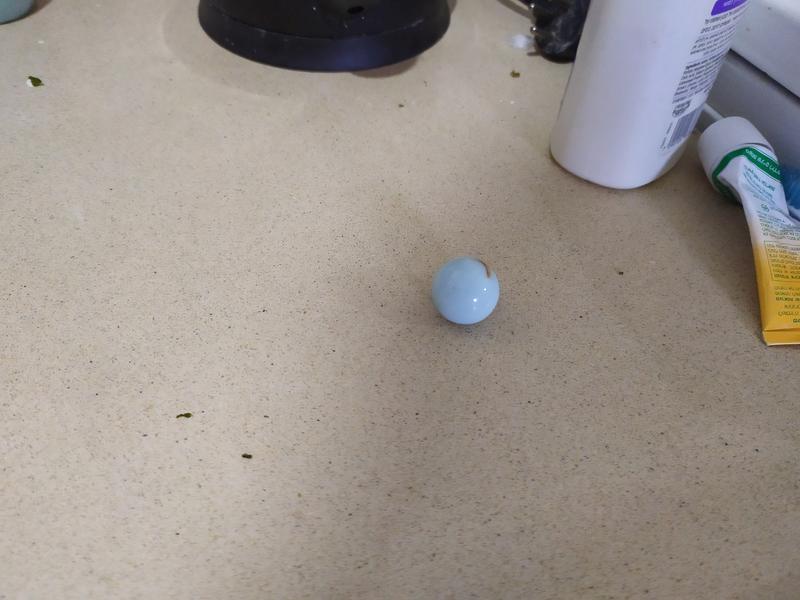Warning: (428, 253, 502, 327)
